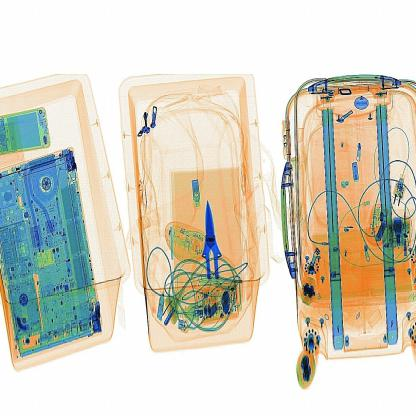gun: (186, 193, 243, 297)
